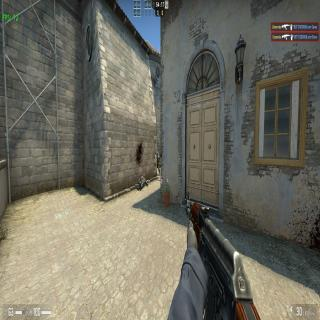CT-Body: (157, 151, 160, 176)
CT-Head: (156, 151, 158, 157)
